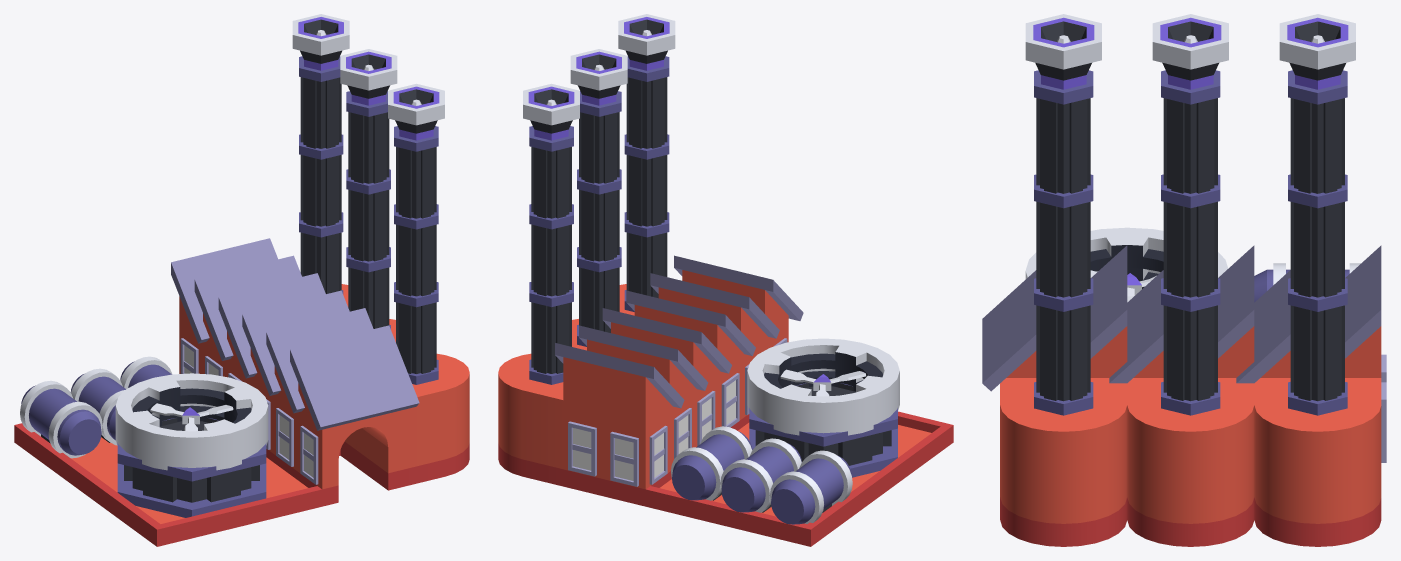
Rendered from factory_big.fbx.
The picture shows the model from 3 angles, left to right: view 1: azimuth 30°, elevation 25°; view 2: azimuth 150°, elevation 25°; view 3: azimuth 270°, elevation 25°; orthographic projection. The views are drawn at different scales.
Parts seen in each view (by area): view 1: mergedBlocks; view 2: mergedBlocks; view 3: mergedBlocks.
Boxes of the visible parts, bbox=[...] form: mergedBlocks: bbox=[14, 14, 469, 546]; mergedBlocks: bbox=[498, 14, 953, 546]; mergedBlocks: bbox=[982, 14, 1386, 546].
Size of the model in its own units: 40.17 by 42 by 31.83.
1 material, 1 textured.
